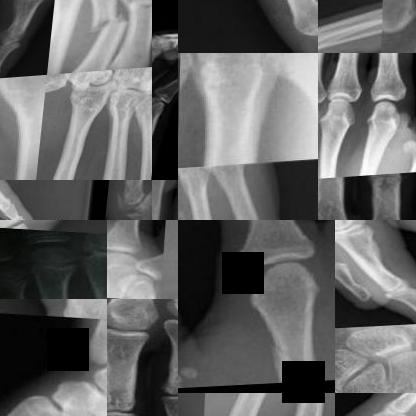fracture: (259, 328, 334, 386), (89, 10, 132, 49), (117, 185, 152, 219), (125, 0, 152, 30), (132, 284, 163, 297), (306, 5, 317, 41)
